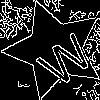W: (29, 24, 97, 89)
